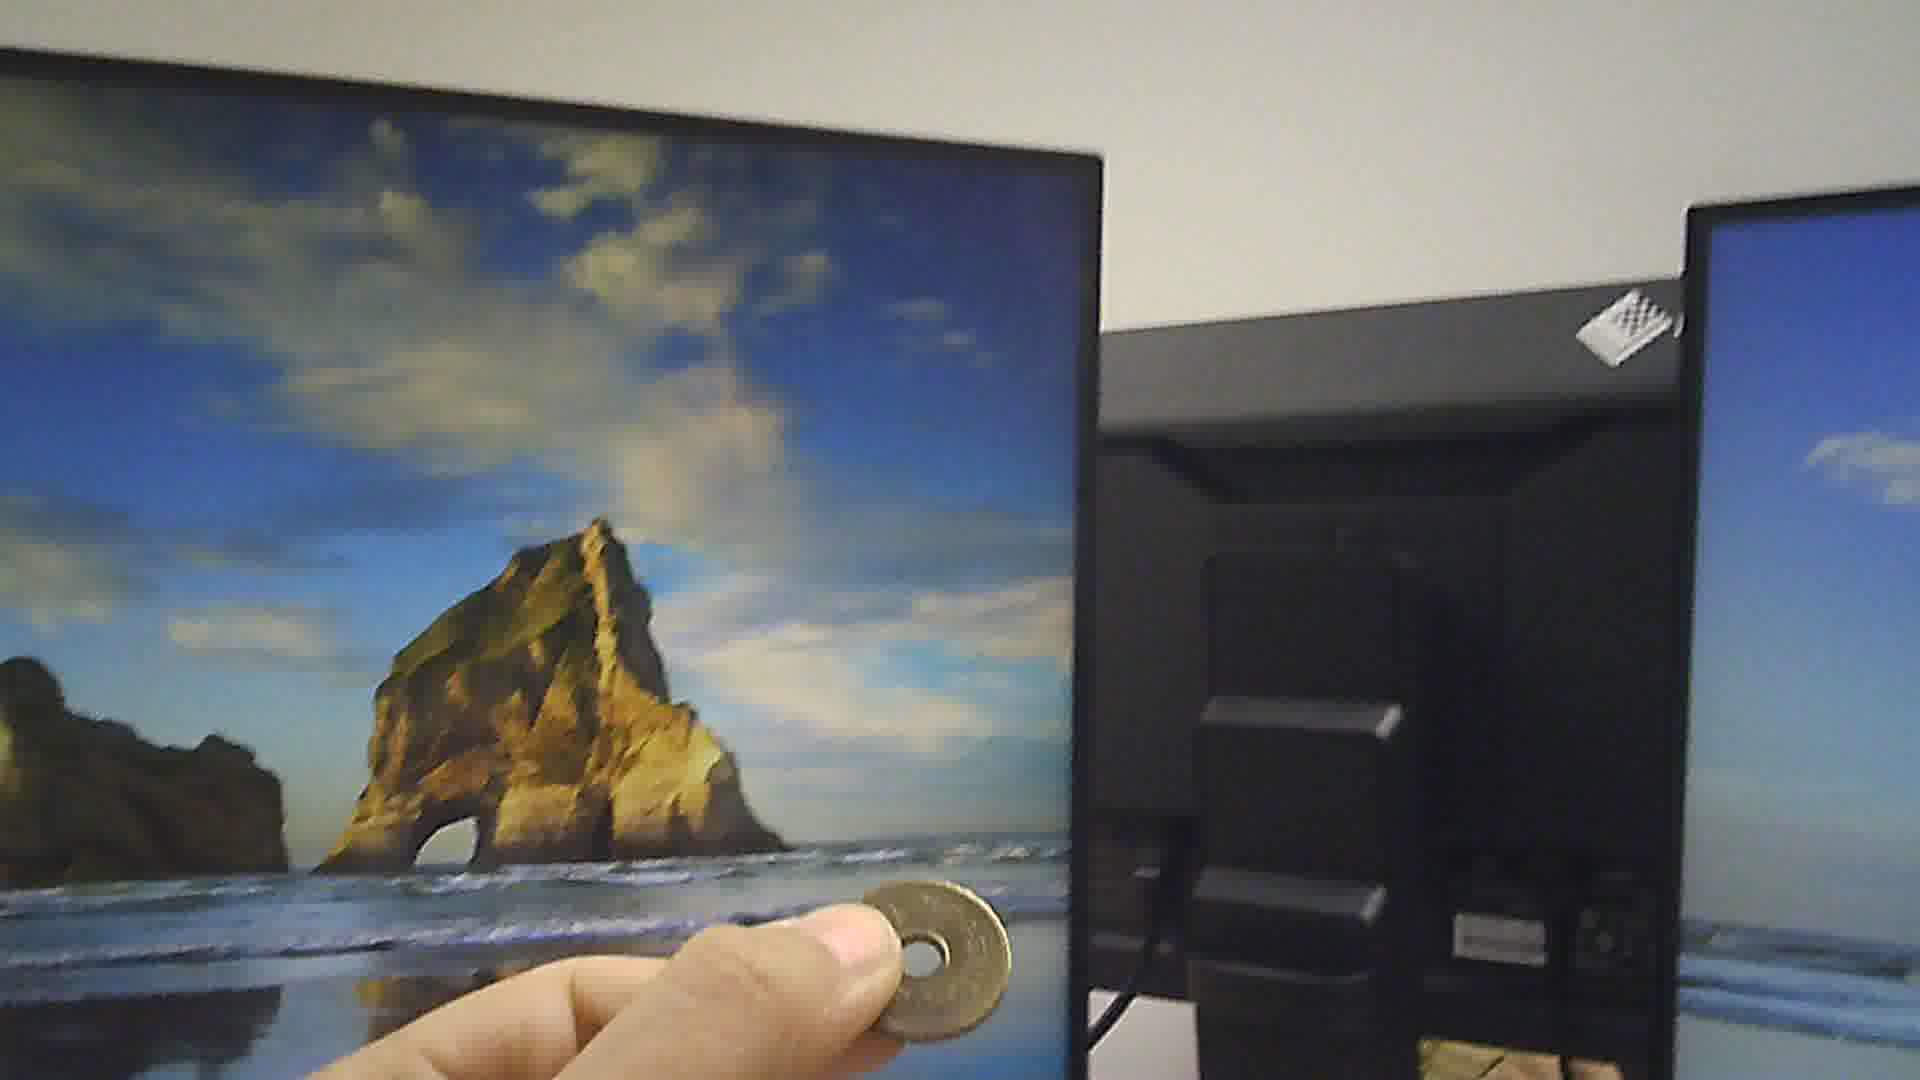5 Yen: (844, 872, 1018, 1048)
